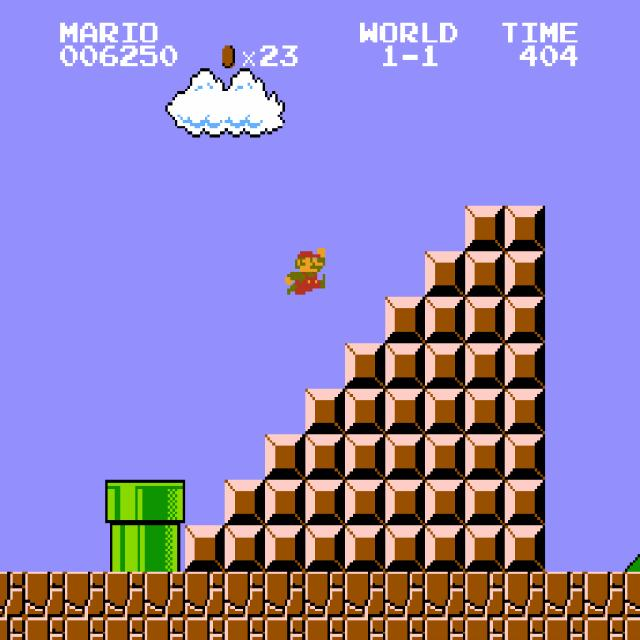hard_block: (225, 480, 265, 526), (265, 434, 305, 480), (265, 480, 305, 526), (305, 434, 345, 480), (305, 480, 345, 526), (345, 434, 385, 480), (345, 480, 385, 526), (385, 297, 425, 343), (385, 434, 425, 480), (385, 480, 425, 526), (425, 297, 465, 343), (425, 434, 465, 480), (425, 480, 465, 526), (465, 297, 505, 343), (465, 434, 505, 480), (465, 480, 505, 526), (505, 297, 545, 343), (505, 434, 545, 480), (505, 480, 545, 526), (185, 526, 225, 571), (225, 526, 265, 571), (265, 526, 305, 571), (305, 389, 345, 434), (305, 526, 345, 571), (345, 343, 385, 388), (345, 389, 385, 434), (345, 526, 385, 571), (385, 343, 425, 388), (385, 389, 425, 434), (385, 526, 425, 571), (425, 252, 465, 297), (425, 343, 465, 388), (425, 389, 465, 434), (425, 526, 465, 571), (465, 206, 505, 251), (465, 252, 505, 297), (465, 343, 505, 388), (465, 389, 505, 434), (465, 526, 505, 571), (505, 206, 545, 251), (505, 252, 545, 297), (505, 343, 545, 388), (505, 389, 545, 434), (505, 526, 545, 571)
little_mario: (283, 246, 325, 294)
pipe: (105, 526, 145, 571), (145, 526, 185, 571)
pipe_head: (105, 480, 145, 526), (145, 480, 185, 526)
undestructible_block: (25, 572, 65, 617), (65, 572, 105, 617), (105, 572, 145, 617), (145, 572, 185, 617), (185, 572, 225, 617), (225, 572, 265, 617), (265, 572, 305, 617), (305, 572, 345, 617), (345, 572, 385, 617), (385, 572, 425, 617), (425, 572, 465, 617), (465, 572, 505, 617), (505, 572, 545, 617), (545, 572, 585, 617), (585, 572, 625, 617), (0, 571, 25, 617), (25, 617, 65, 640), (65, 617, 105, 640), (105, 617, 145, 640), (145, 617, 185, 640), (185, 617, 225, 640), (225, 617, 265, 640), (265, 617, 305, 640), (305, 617, 345, 640), (345, 617, 385, 640), (385, 617, 425, 640), (425, 617, 465, 640), (465, 617, 505, 640), (505, 617, 545, 640), (545, 617, 585, 640), (585, 617, 625, 640), (625, 572, 640, 617), (0, 617, 25, 639), (625, 617, 640, 640)
